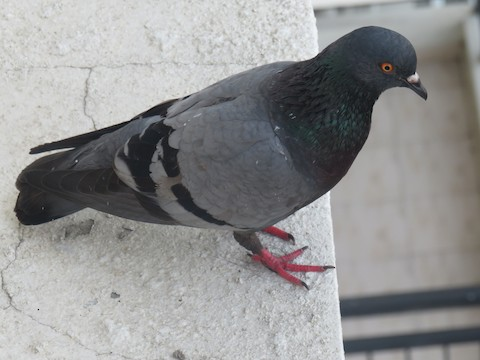pigeon: (12, 23, 432, 293)
